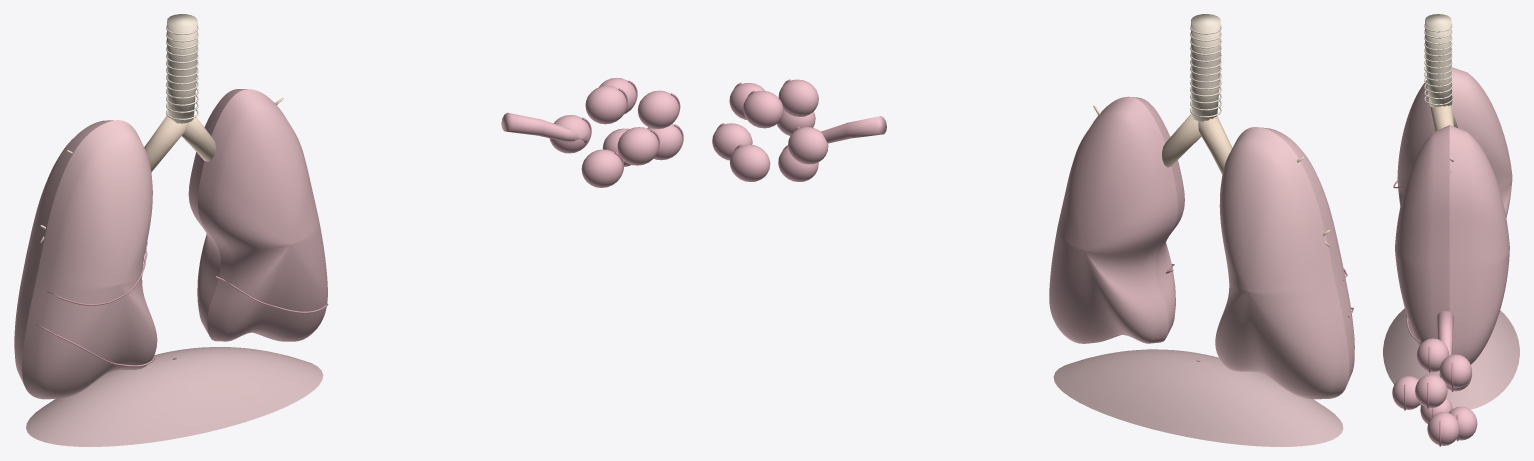
File: respiratory-atlas.glb
The picture shows the model from 3 angles, left to right: view 1: azimuth 30°, elevation 25°; view 2: azimuth 150°, elevation 25°; view 3: azimuth 270°, elevation 25°; orthographic projection. The views are drawn at different scales.
Visible parts, largest first — view 1: Right lung pleural surface, Left lung pleural surface, Diaphragm, Trachea, Alveolar duct, Alveolus 8, Alveolus 5, Alveolus 3, Alveolus 1, Right main bronchus, Alveolus 4, Left main bronchus (+1 smaller); view 2: Right lung pleural surface, Left lung pleural surface, Diaphragm, Trachea, Alveolus 2, Alveolus 6, Alveolus 4, Alveolus 1, Left main bronchus, Alveolar duct, Right main bronchus, Alveolus 7 (+1 smaller); view 3: Left lung pleural surface, Right lung pleural surface, Diaphragm, Trachea, Alveolus 3, Alveolus 7, Alveolus 2, Alveolus 1, Alveolus 8, Alveolus 6, Alveolar duct, Left main bronchus (+1 smaller).
Boxes of the visible parts, x1,y1,x2,y2 form: Right lung pleural surface: (14,120,157,399); Left lung pleural surface: (188,89,327,341); Diaphragm: (26,347,323,446); Trachea: (167,14,197,123); Alveolar duct: (501,112,588,143); Alveolus 8: (617,127,658,165); Alveolus 5: (581,149,622,187); Alveolus 3: (637,90,679,128); Alveolus 1: (585,85,626,124); Right main bronchus: (144,115,186,172); Alveolus 4: (549,115,590,153); Left main bronchus: (182,114,215,161); Right lung pleural surface: (1215,127,1354,399); Left lung pleural surface: (1049,96,1184,343); Diaphragm: (1053,349,1343,446); Trachea: (1191,14,1220,121); Alveolus 2: (743,90,783,128); Alveolus 6: (729,144,770,181); Alveolus 4: (788,127,828,164); Alveolus 1: (778,79,818,116); Left main bronchus: (1162,113,1201,167); Alveolar duct: (821,116,886,143); Right main bronchus: (1198,116,1232,174); Alveolus 7: (712,123,752,160); Left lung pleural surface: (1395,125,1509,364); Right lung pleural surface: (1397,67,1512,217); Diaphragm: (1383,308,1519,409); Trachea: (1425,14,1452,107); Alveolus 3: (1415,374,1447,407); Alveolus 7: (1427,412,1459,445); Alveolus 2: (1439,354,1472,388); Alveolus 1: (1416,338,1449,372); Alveolus 8: (1392,376,1420,409); Alveolus 6: (1449,406,1477,440); Alveolar duct: (1437,311,1453,377); Left main bronchus: (1430,104,1454,131).
Size of the model in its own units: 3.71 by 2.09 by 0.7785.
